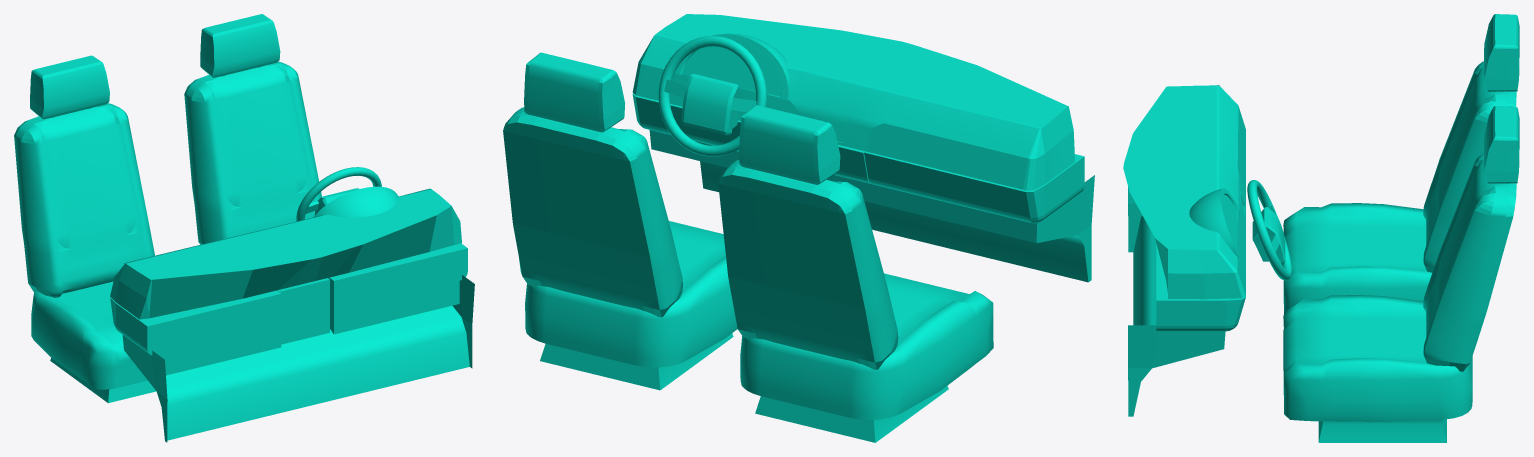
File: Truck_Interior.fbx
The picture shows the model from 3 angles, left to right: view 1: azimuth 30°, elevation 25°; view 2: azimuth 150°, elevation 25°; view 3: azimuth 270°, elevation 25°; orthographic projection. The views are drawn at different scales.
Parts seen in each view (by area): view 1: Truck_Interior; view 2: Truck_Interior; view 3: Truck_Interior.
Part boxes in pixels (x1=…): Truck_Interior: x1=14, y1=14, x2=474, y2=442; Truck_Interior: x1=503, y1=14, x2=1094, y2=442; Truck_Interior: x1=1123, y1=14, x2=1519, y2=442.
Bounding box in the file's own units: 167 × 133 × 162.
